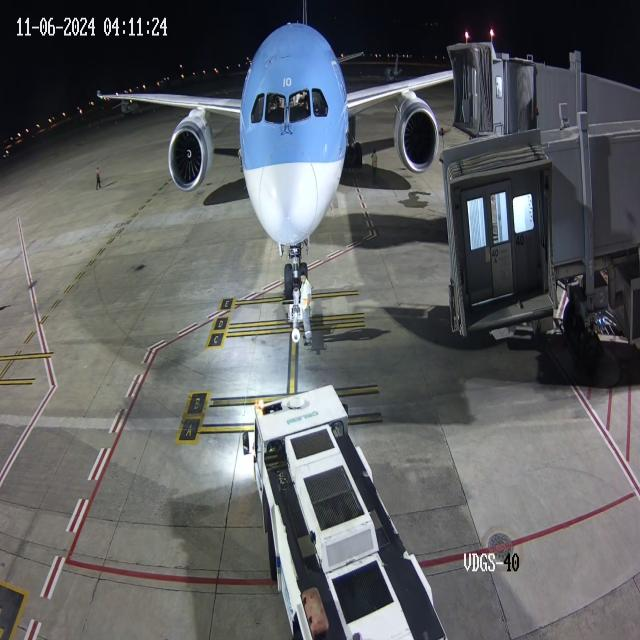bridge: (485, 25, 539, 138)
plane: (95, 20, 439, 294)
window: (246, 86, 331, 133)
